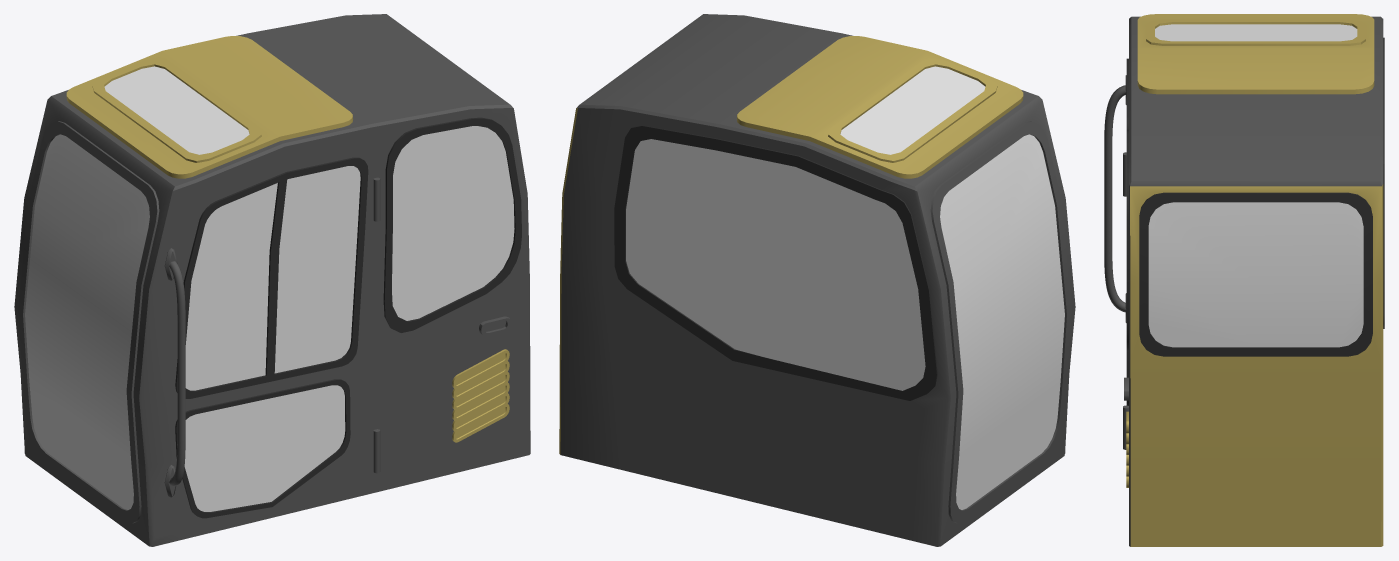
Rendered from Cabin.fbx.
3 views of the same model, side by side, from view 1: azimuth 30°, elevation 25°; view 2: azimuth 150°, elevation 25°; view 3: azimuth 270°, elevation 25° (orthographic).
Visible parts, largest first — view 1: Cube, Cube.010, NurbsPath; view 2: Cube; view 3: Cube, NurbsPath.
Part boxes in pixels (bbox=[...]): Cube: bbox=[14, 14, 530, 546]; Cube.010: bbox=[452, 349, 509, 442]; NurbsPath: bbox=[169, 261, 185, 485]; Cube: bbox=[559, 14, 1075, 546]; Cube: bbox=[1126, 14, 1384, 546]; NurbsPath: bbox=[1104, 85, 1126, 312].
Size of the model in its own units: 293 by 267 by 179.
